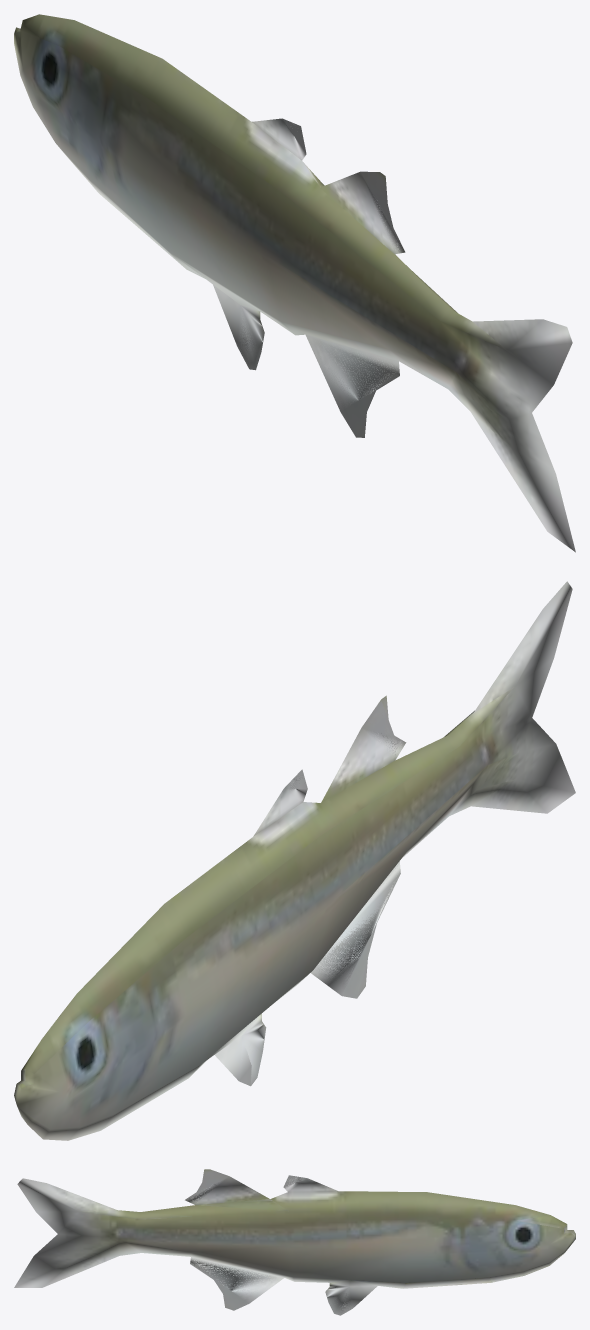
File: zilvervisje.glb
The picture shows the model from 3 angles, top to bottom: view 1: azimuth 30°, elevation 25°; view 2: azimuth 150°, elevation 25°; view 3: azimuth 270°, elevation 25°; orthographic projection. The views are drawn at different scales.
Visible parts, largest first — view 1: tripo_node_620b81b9-5d0c-4ef9-9721-f04f16aa7108; view 2: tripo_node_620b81b9-5d0c-4ef9-9721-f04f16aa7108; view 3: tripo_node_620b81b9-5d0c-4ef9-9721-f04f16aa7108.
Boxes of the visible parts, bbox=[...] form: tripo_node_620b81b9-5d0c-4ef9-9721-f04f16aa7108: bbox=[14, 14, 575, 552]; tripo_node_620b81b9-5d0c-4ef9-9721-f04f16aa7108: bbox=[14, 581, 575, 1140]; tripo_node_620b81b9-5d0c-4ef9-9721-f04f16aa7108: bbox=[14, 1169, 575, 1315].
Size of the model in its own units: 0.0357 by 0.15 by 0.5214.
1 material, 1 textured.
